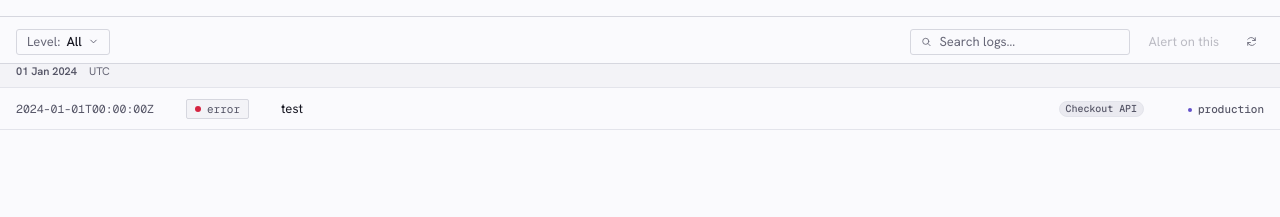
Test: LogsView › log table › shows "No attributes" in expanded row when there are none
The image size is (1280, 217).
What coordinates should you click on to do the following:
click the row "2024-01-01T00:00:00Z error test Checkout API production"
I would click on:
 (640, 108)
Its box is left=0, top=88, right=1279, bottom=130.
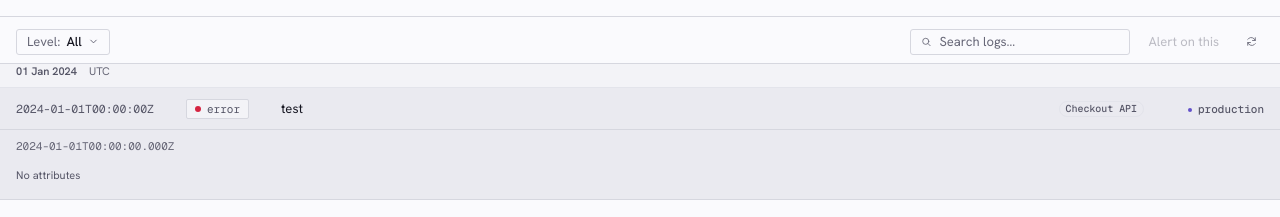
Now the text "No attributes" is shown, box left=16, top=168, right=80, bottom=182
